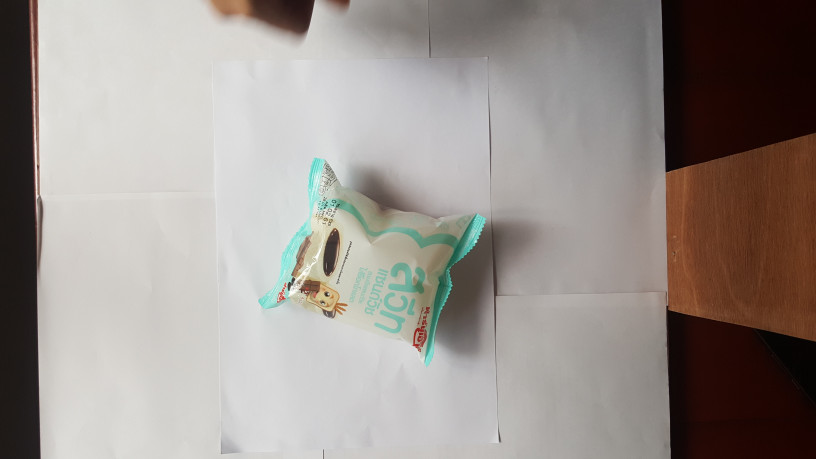farmhouse-sweetsandwich-chocolate: (255, 154, 490, 367)
